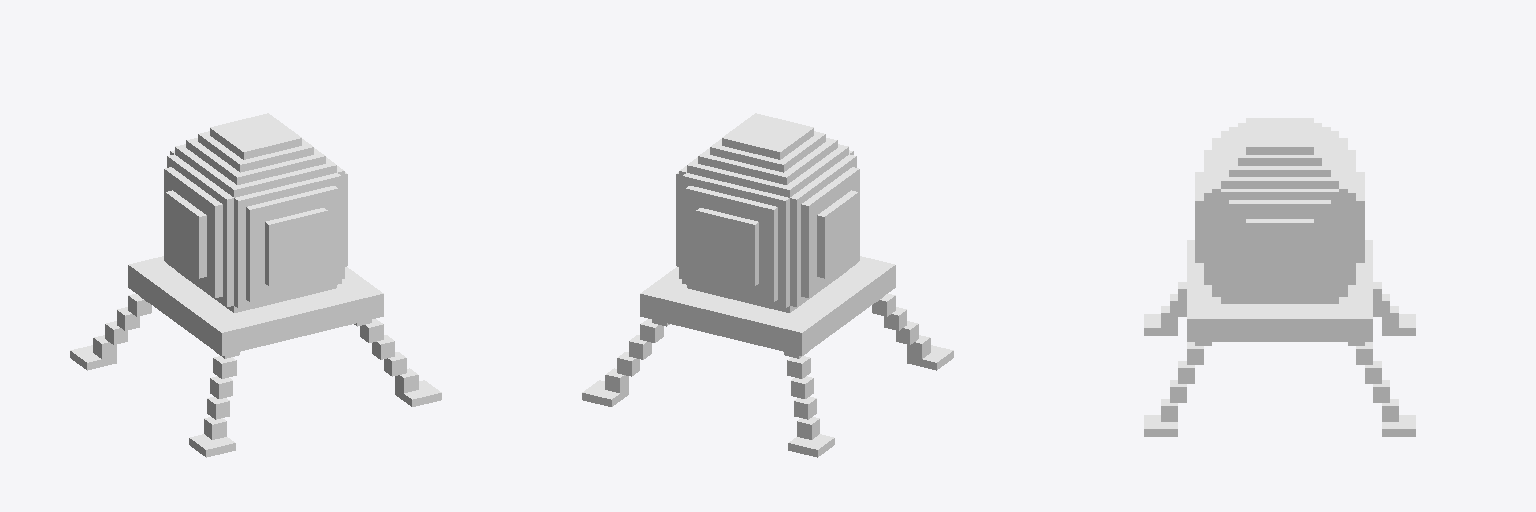
Rendered from Lander3_Whole.obj.
3 renders of one model, left to right at view 1: azimuth 30°, elevation 25°; view 2: azimuth 150°, elevation 25°; view 3: azimuth 270°, elevation 25°, orthographic.
Visible parts, largest first — view 1: Lander3_Whole; view 2: Lander3_Whole; view 3: Lander3_Whole.
Boxes of the visible parts, x1,y1,x2,y2 form: Lander3_Whole: [70, 113, 441, 457]; Lander3_Whole: [582, 113, 953, 457]; Lander3_Whole: [1144, 118, 1415, 436].
Size of the model in its own units: 32 by 32 by 32.